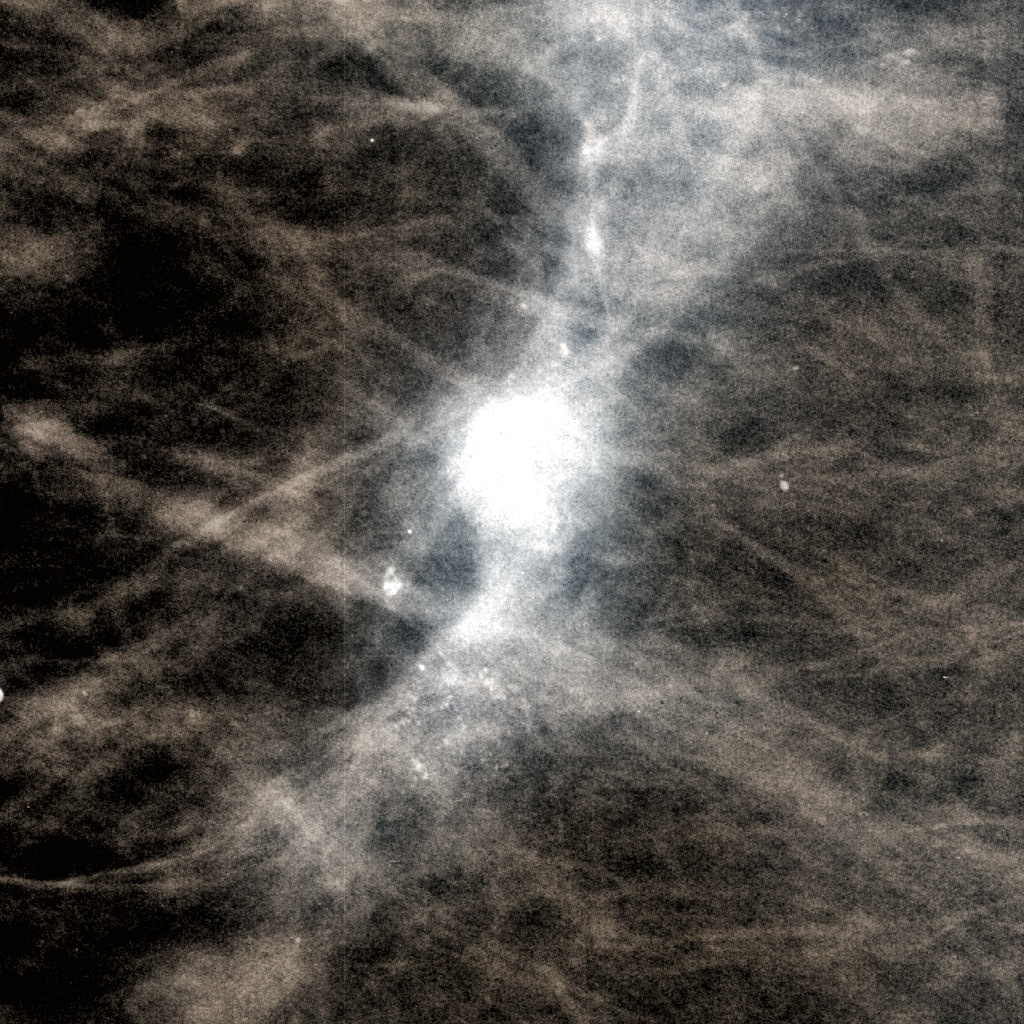tumor: (407, 368, 617, 656)
